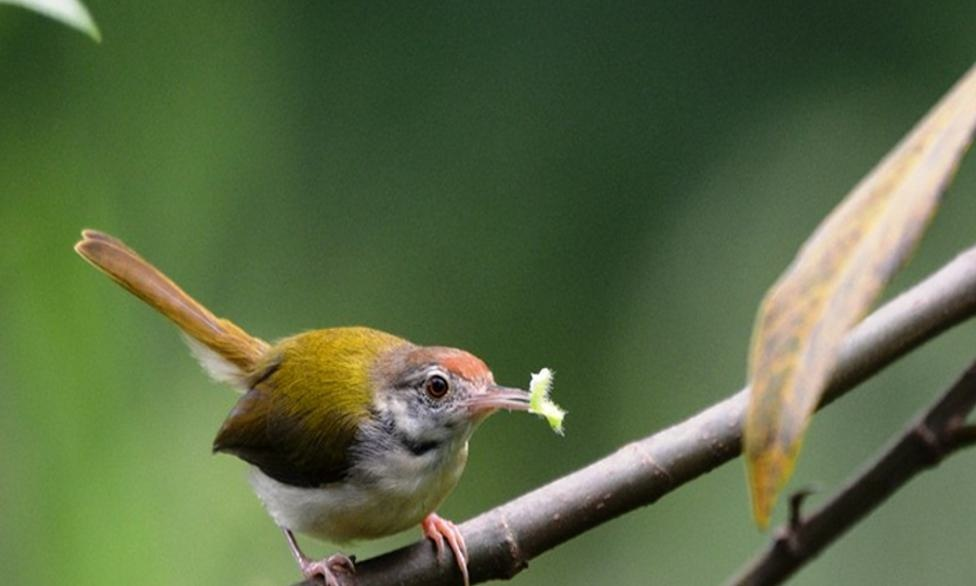tailorbird: (66, 214, 643, 545)
